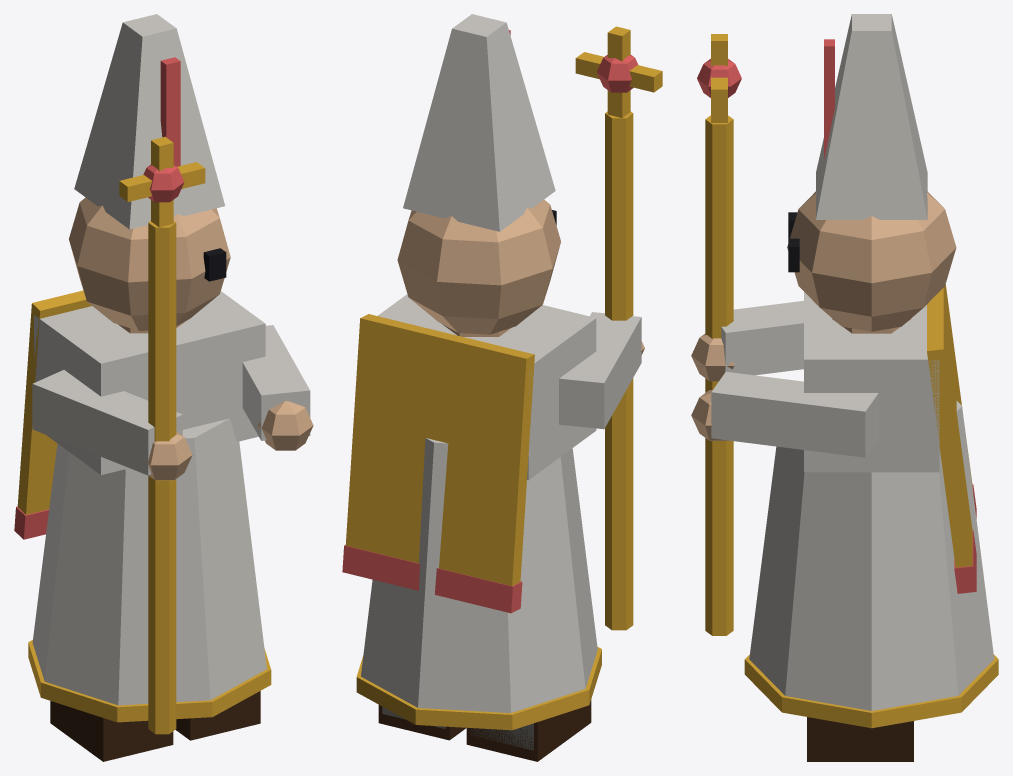
The model's file is u_bishop.fbx.
3 renders of one model, left to right at view 1: azimuth 30°, elevation 25°; view 2: azimuth 150°, elevation 25°; view 3: azimuth 270°, elevation 25°, orthographic.
Parts seen in each view (by area): view 1: u_bishop_Body, u_bishop_LegR, u_bishop_LegL; view 2: u_bishop_Body, u_bishop_LegR, u_bishop_LegL; view 3: u_bishop_Body, u_bishop_LegL.
Boxes of the visible parts, <box> form: u_bishop_Body: <box>14,14,313,734</box>; u_bishop_LegR: <box>50,701,173,761</box>; u_bishop_LegL: <box>175,691,260,740</box>; u_bishop_Body: <box>342,14,662,730</box>; u_bishop_LegR: <box>466,700,591,761</box>; u_bishop_LegL: <box>378,705,466,740</box>; u_bishop_Body: <box>691,14,998,728</box>; u_bishop_LegL: <box>807,717,913,761</box>.
Bounding box in the file's own units: 0.4977 × 1.37 × 0.545.
